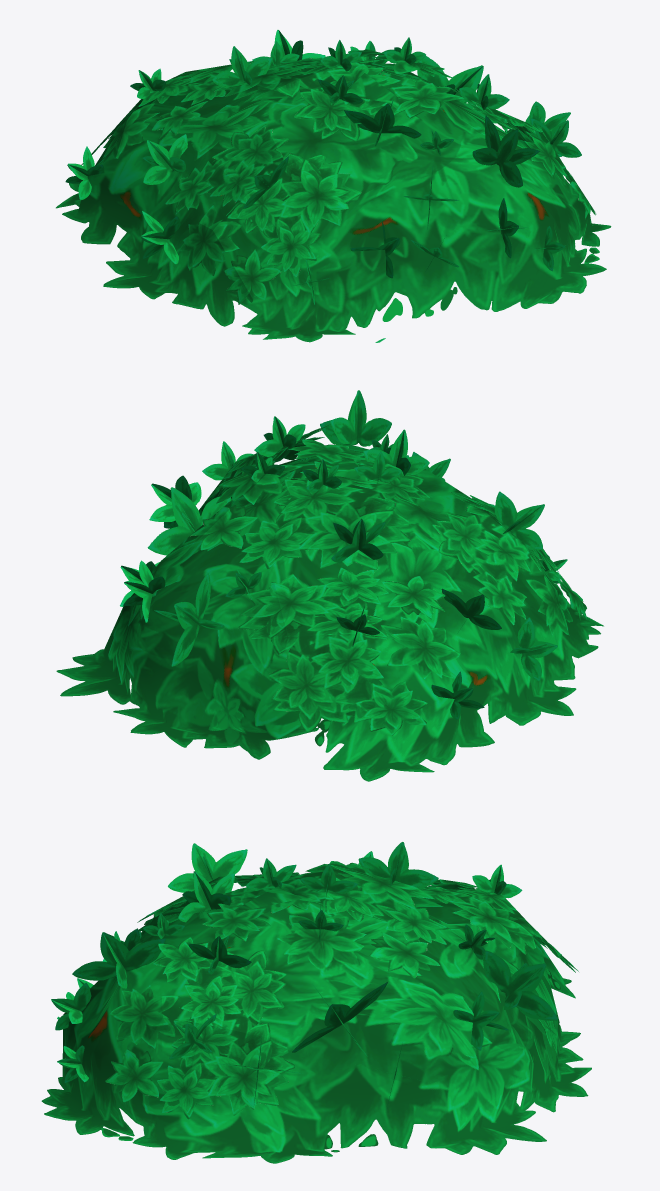
Rendered from 1_Arbusto_Verde_Oscuro.fbx.
3 renders of one model, top to bottom at view 1: azimuth 30°, elevation 25°; view 2: azimuth 150°, elevation 25°; view 3: azimuth 270°, elevation 25°, orthographic. The views are drawn at different scales.
Visible parts, largest first — view 1: 1_Arbusto_Verde_Oscuro; view 2: 1_Arbusto_Verde_Oscuro; view 3: 1_Arbusto_Verde_Oscuro.
Part boxes in pixels (x1=…): 1_Arbusto_Verde_Oscuro: x1=56, y1=30, x2=611, y2=342; 1_Arbusto_Verde_Oscuro: x1=56, y1=390, x2=603, y2=781; 1_Arbusto_Verde_Oscuro: x1=41, y1=842, x2=591, y2=1163.
Size of the model in its own units: 451 by 175 by 476.
